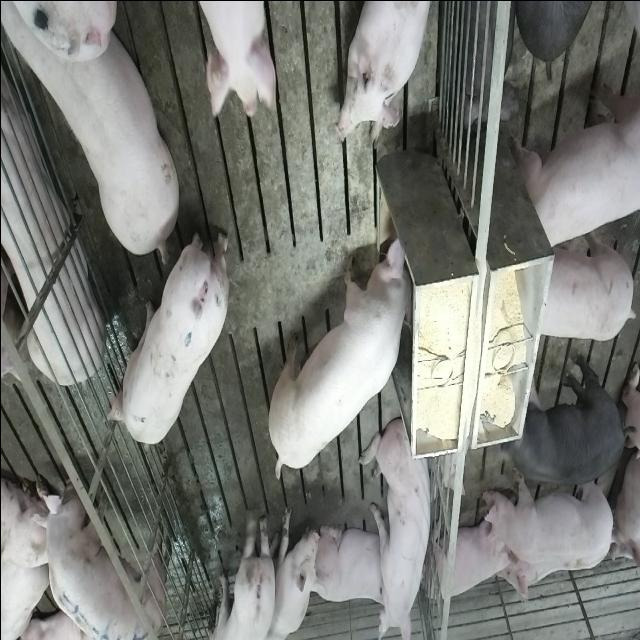Feeding: (271, 231, 421, 478)
Sitting: (364, 410, 436, 636), (268, 497, 320, 638)
Standing: (5, 7, 184, 266), (104, 220, 228, 444), (515, 68, 639, 254), (29, 481, 164, 640), (494, 356, 625, 490), (481, 468, 616, 567), (532, 225, 634, 342), (201, 508, 274, 640)
Sternal_lying: (0, 61, 101, 383), (333, 0, 434, 145), (430, 510, 510, 604), (310, 519, 390, 605)
